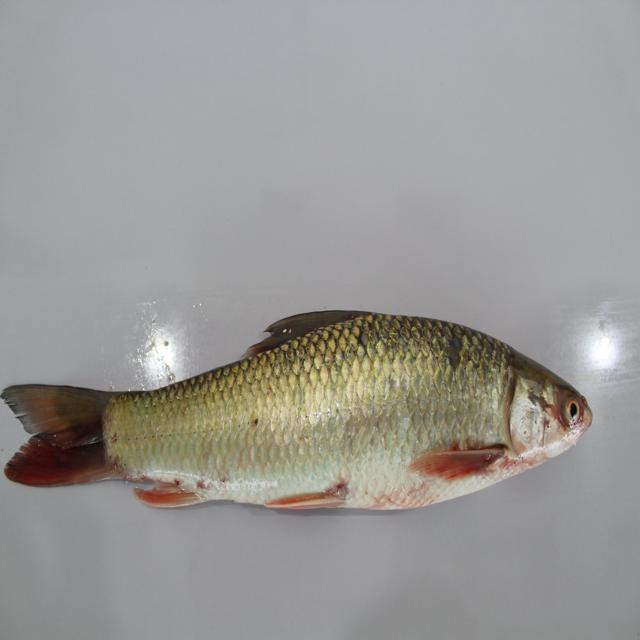Mori: (8, 296, 595, 543)
